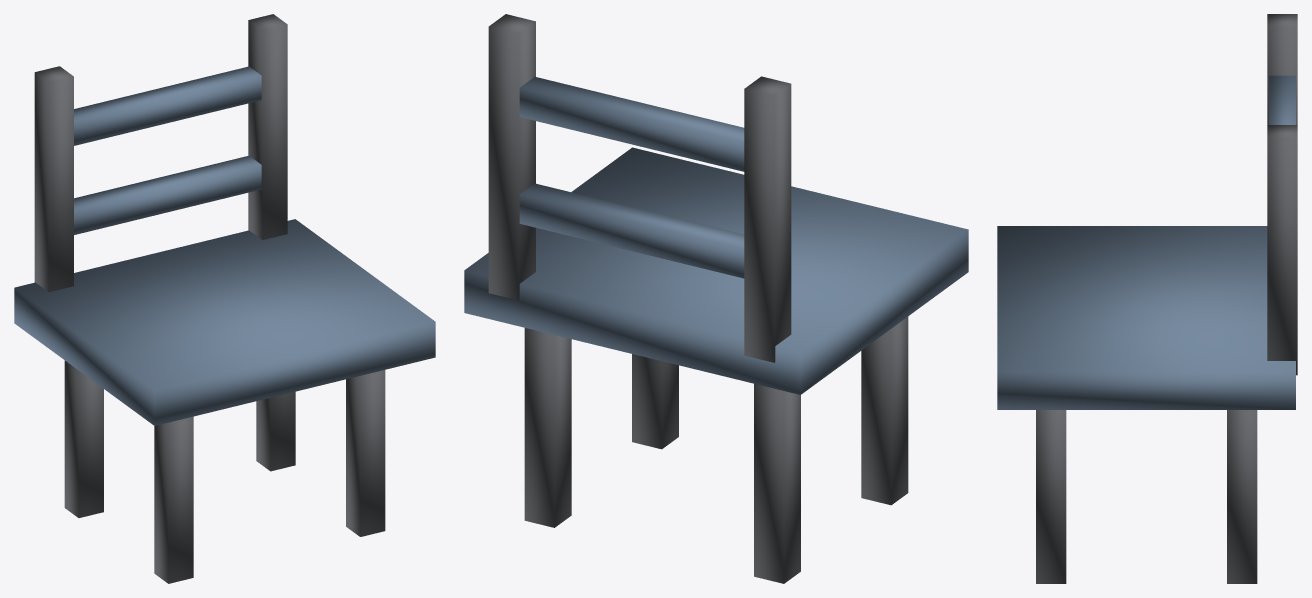
The model's file is interview_chair__squat.glb.
3 views of the same model, side by side, from view 1: azimuth 30°, elevation 25°; view 2: azimuth 150°, elevation 25°; view 3: azimuth 270°, elevation 25° (orthographic). The views are drawn at different scales.
Parts seen in each view (by area): view 1: world; view 2: world; view 3: world.
Part boxes in pixels (bbox=[...]): world: bbox=[14, 14, 435, 583]; world: bbox=[464, 14, 968, 583]; world: bbox=[997, 14, 1297, 583].
Size of the model in its own units: 0.5541 by 0.7992 by 0.4819.
